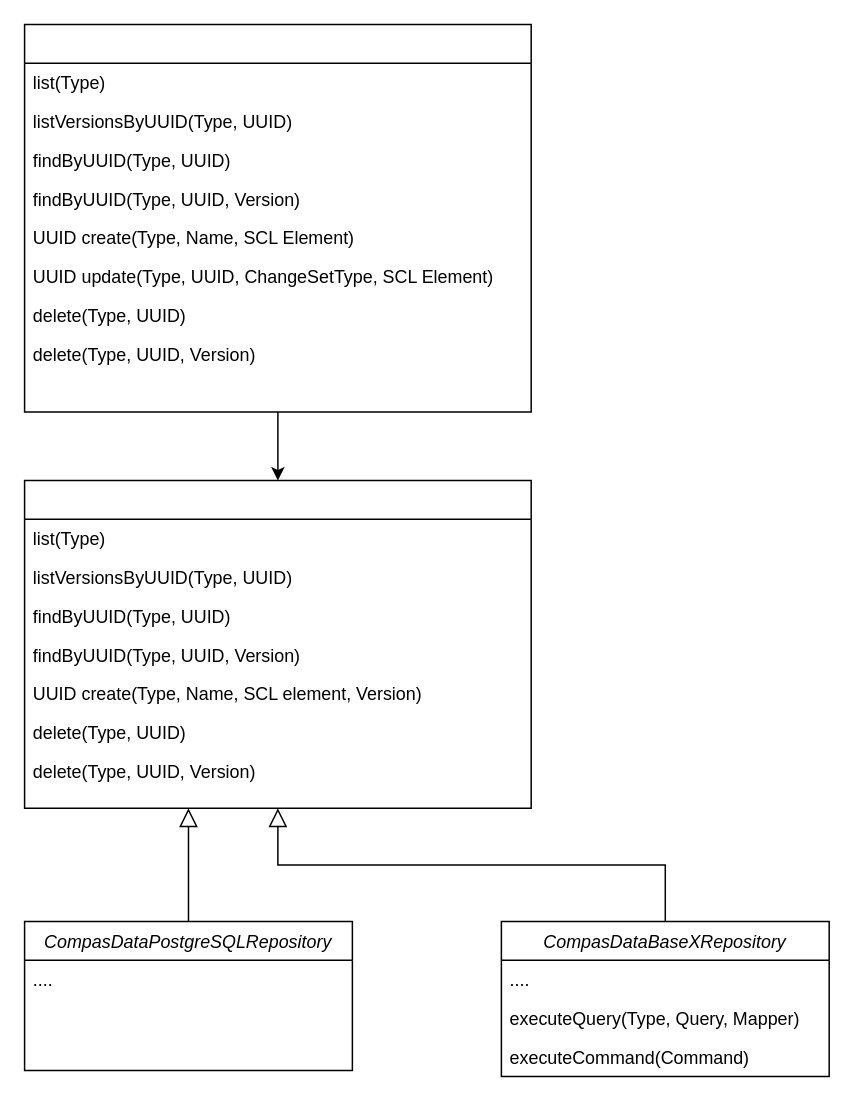
Image size: 854x1101. Some labels were removed from this diagram. Here are the shapes that lost their labels. From the top down, the box of each, then its label:
(23, 23, 531, 412): CompasDataService
(23, 479, 531, 808): CompasDataRepository
